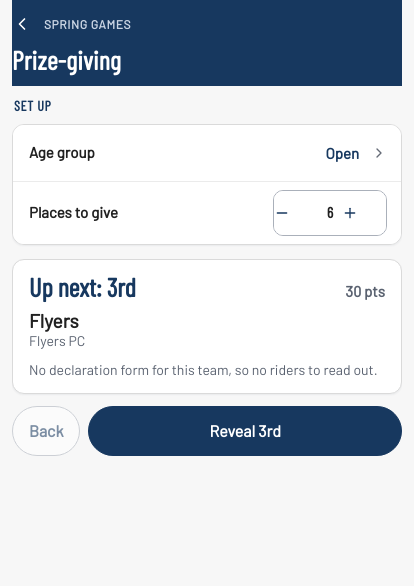
PrizeGivingPage › says when the stream could not be changed and tries again, and when the toplist could not load
Click the button "Reveal 3rd" at point(245, 431), box left=88, top=406, right=402, bottom=456
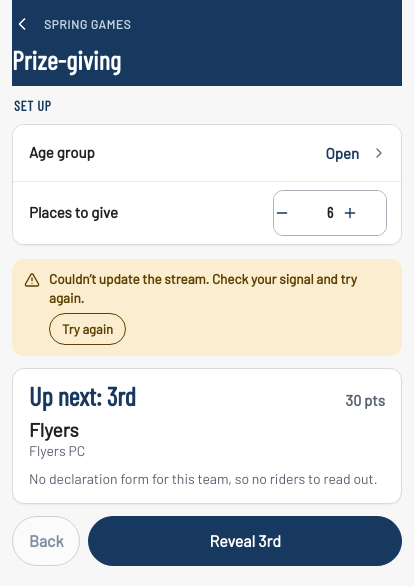
Expected: the text "Up next: 3rd" is shown, left=29, top=384, right=136, bottom=410
Expected: the text "Couldn’t update the stream. Check your signal and try again." is shown, left=49, top=270, right=390, bottom=308
Click the button "Try again" at point(88, 330), box left=49, top=314, right=126, bottom=346
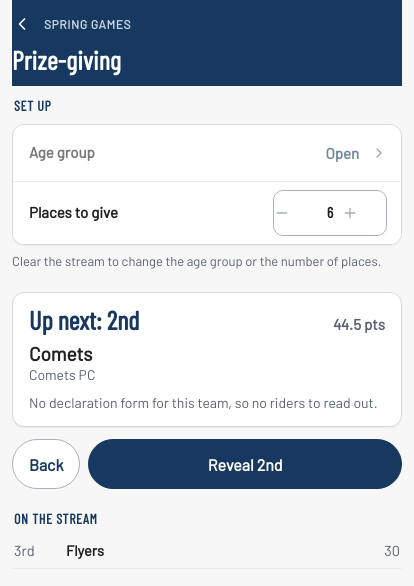
Expected: the text "Up next: 2nd" is shown, left=29, top=307, right=139, bottom=333
